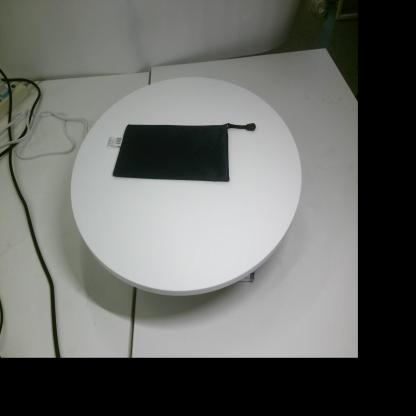Stationery: (107, 123, 256, 181)
